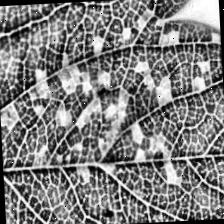Angular Leafspot: (0, 1, 224, 210)
